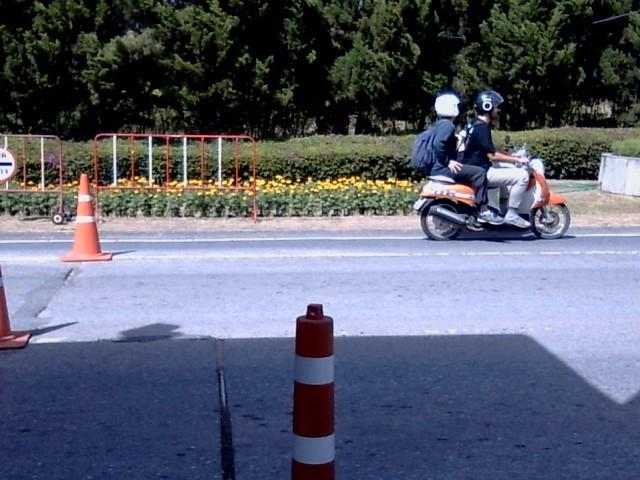helmet: (474, 90, 503, 121), (434, 91, 461, 118)
motor: (413, 177, 510, 240), (519, 159, 570, 236)
person: (427, 93, 501, 222), (462, 90, 529, 227)
